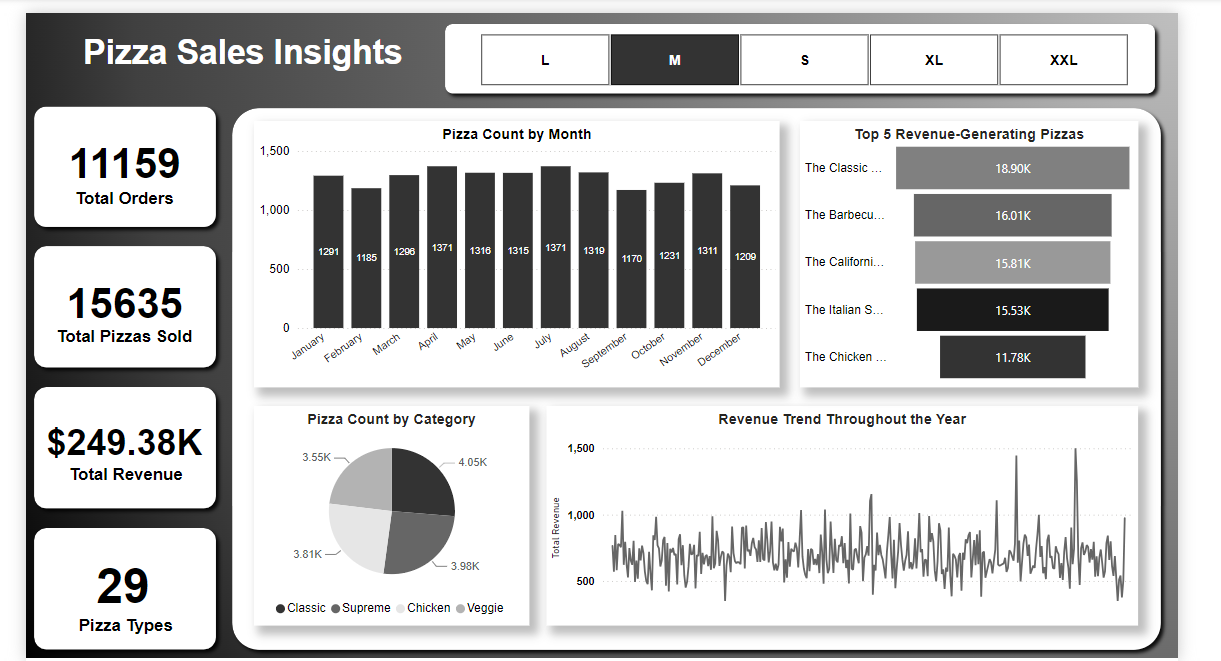

Layout of this report page (visuals, bound fields, positions):
{"tool":"powerbi","page":{"name":"Page 1","canvas":[1280,720],"ordinal":0},"visuals":[{"type":"shape","box":[456.7,3.3,806.7,95],"z":0},{"type":"shape","box":[220,96,1050,620],"z":1000},{"type":"shape","box":[0,562.9,220,152.9],"z":2000},{"type":"shape","box":[0,406.5,220,152.9],"z":3000},{"type":"shape","box":[0,250.2,220,152.9],"z":4000},{"type":"shape","box":[0,95,220,151.7],"z":5000},{"type":"card","title":"Total Orders","fields":{"Values":["Count(pizzasales.order_id)"]},"box":[16.7,120,185,101.7],"z":6000},{"type":"card","title":"Total Pizzas Sold","fields":{"Values":["Sum(pizzasales.quantity)"]},"box":[16.7,263.3,185,126.7],"z":7000},{"type":"card","fields":{"Values":["Sum(pizzasales.total_price)"]},"box":[16.7,425,185,115],"z":8000},{"type":"textbox","box":[20,16.7,441.7,65],"z":9000},{"type":"columnChart","title":"Pizza Count by Month","fields":{"Category":["pizzasales.order_date.Variation.Date Hierarchy.Month"],"Y":["Count(pizzasales.pizza_id)"]},"box":[252.9,120,584.3,295.7],"z":10000},{"type":"pieChart","title":"Pizza Count by Category","fields":{"Category":["pizzasales.pizza_category"],"Y":["Count(pizzasales.pizza_id)"]},"box":[252.9,437.1,305.7,244.3],"z":11000},{"type":"card","fields":{"Values":["Count(pizzasales.pizza_name)"]},"box":[16.7,583.3,181.7,113.3],"z":12000},{"type":"slicer","fields":{"Values":["pizzasales.pizza_size"]},"box":[480,16.7,768.3,70],"z":13000},{"type":"lineChart","title":"Revenue Trend Throughout the Year","fields":{"Y":["Sum(pizzasales.total_price)"],"Category":["pizzasales.order_date.Variation.Date Hierarchy.Year","pizzasales.order_date.Variation.Date Hierarchy.Quarter","pizzasales.order_date.Variation.Date Hierarchy.Month","pizzasales.order_date.Variation.Date Hierarchy.Day"]},"box":[578.6,437.1,657.1,244.3],"z":14000},{"type":"funnel","title":"Top 5 Revenue-Generating Pizzas","fields":{"Category":["pizzasales.pizza_name"],"Y":["Sum(pizzasales.total_price)"]},"box":[860,120,375.7,295.7],"z":15000},{"type":"textbox","box":[15,190,188.3,32],"z":16000},{"type":"textbox","box":[15,343.3,188.3,32],"z":17000},{"type":"textbox","box":[16.7,496.7,188.3,32],"z":18000},{"type":"textbox","box":[16.7,665,188.3,32],"z":19000}]}

Visuals, with their boxes on the page's 1280x720 design canvas (x1, y1, x2, y2). These are canvas units, not pixel positions in the 1221x661 screenshot, which may show the page scaled, cropped or inside an application window:
shape: (457, 3, 1263, 98)
shape: (220, 96, 1270, 716)
shape: (0, 563, 220, 716)
shape: (0, 406, 220, 559)
shape: (0, 250, 220, 403)
shape: (0, 95, 220, 247)
"Total Orders" card: (17, 120, 202, 222)
"Total Pizzas Sold" card: (17, 263, 202, 390)
card - Sum(pizzasales.total_price): (17, 425, 202, 540)
textbox: (20, 17, 462, 82)
"Pizza Count by Month" columnChart: (253, 120, 837, 416)
"Pizza Count by Category" pieChart: (253, 437, 559, 681)
card - Count(pizzasales.pizza_name): (17, 583, 198, 697)
slicer - pizzasales.pizza_size: (480, 17, 1248, 87)
"Revenue Trend Throughout the Year" lineChart: (579, 437, 1236, 681)
"Top 5 Revenue-Generating Pizzas" funnel: (860, 120, 1236, 416)
textbox: (15, 190, 203, 222)
textbox: (15, 343, 203, 375)
textbox: (17, 497, 205, 529)
textbox: (17, 665, 205, 697)
